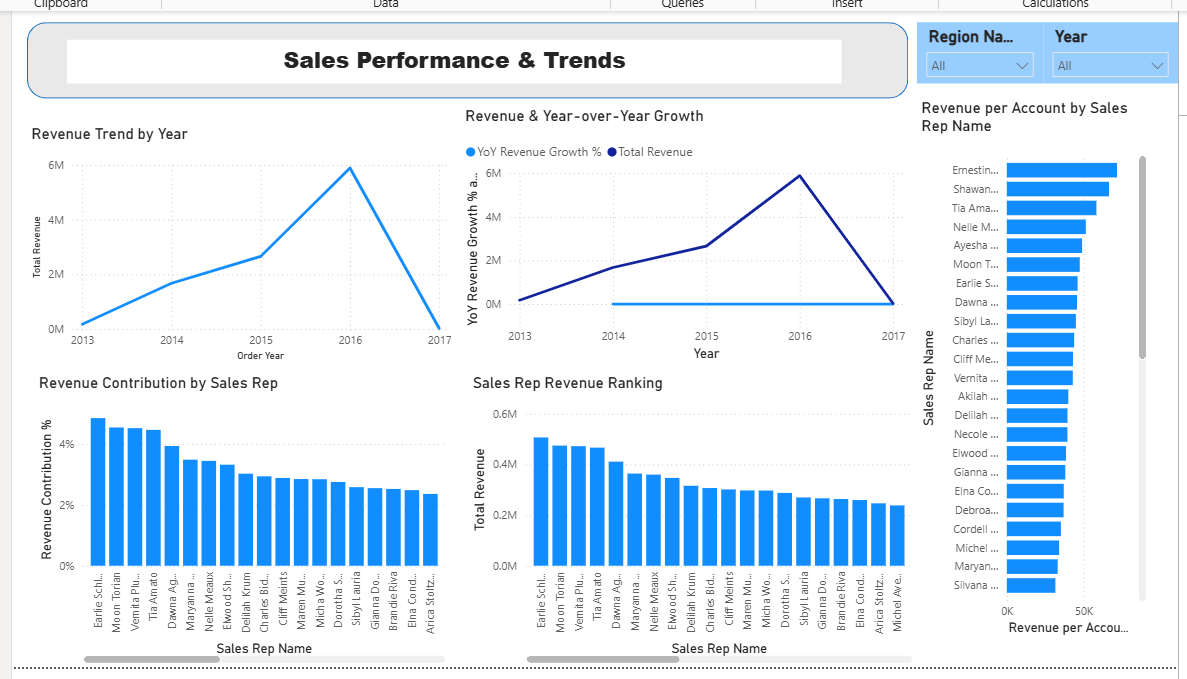

The dashboard page shown, as its layout file describes it:
{"tool":"powerbi","page":{"name":"Sales Performance & Trends","canvas":[1280,720],"ordinal":1},"visuals":[{"type":"group","id":"g1","title":"Group 1","box":[17.1,12.2,968.5,83.2],"z":0},{"type":"shape","box":[17.1,12.2,967.4,83.7],"z":1000,"group":"g1"},{"type":"lineChart","title":"Revenue Trend by Year","fields":{"Y":["orders.Total Revenue"],"Category":["orders.Order Year"]},"box":[15.9,124.7,470.8,264.1],"z":1000},{"type":"textbox","box":[61,31.4,850.8,48],"z":2000,"group":"g1"},{"type":"lineChart","title":"Revenue & Year-over-Year Growth","fields":{"Category":["DateTable.Year"],"Y":["orders.YoY Revenue Growth %","orders.Total Revenue"]},"box":[492.8,103.9,492.8,284.9],"z":2000},{"type":"clusteredColumnChart","title":"Revenue Contribution by Sales Rep","fields":{"Category":["sales_reps.name"],"Y":["orders.Revenue Contribution %"]},"box":[24.5,397.4,456.1,322.8],"z":3000},{"type":"clusteredColumnChart","title":"Sales Rep Revenue Ranking","fields":{"Category":["sales_reps.Sales Rep Name"],"Y":["orders.Total Revenue"]},"box":[501.4,397.4,492.8,322.8],"z":4000},{"type":"clusteredBarChart","title":"Revenue per Account by Sales Rep Name","fields":{"Category":["sales_reps.Sales Rep Name"],"Y":["orders.Revenue per Account"]},"box":[994.2,95.4,256.8,594.3],"z":5000},{"type":"slicer","fields":{"Values":["region.Region Name"]},"box":[994.2,12.2,138.2,67.3],"z":6000},{"type":"slicer","fields":{"Values":["DateTable.Year"]},"box":[1132.3,12.2,148,67.3],"z":7000}]}

Visuals, with their boxes on the page's 1280x720 design canvas (x1, y1, x2, y2). These are canvas units, not pixel positions in the 1187x679 screenshot, which may show the page scaled, cropped or inside an application window:
"Group 1" group: box(17, 12, 986, 95)
shape: box(17, 12, 984, 96)
"Revenue Trend by Year" lineChart: box(16, 125, 487, 389)
textbox: box(61, 31, 912, 79)
"Revenue & Year-over-Year Growth" lineChart: box(493, 104, 986, 389)
"Revenue Contribution by Sales Rep" clusteredColumnChart: box(24, 397, 481, 720)
"Sales Rep Revenue Ranking" clusteredColumnChart: box(501, 397, 994, 720)
"Revenue per Account by Sales Rep Name" clusteredBarChart: box(994, 95, 1251, 690)
slicer - region.Region Name: box(994, 12, 1132, 80)
slicer - DateTable.Year: box(1132, 12, 1280, 80)
